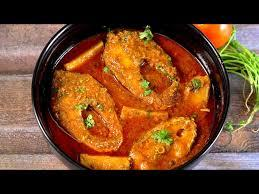Fish Curry: (41, 17, 211, 170)
